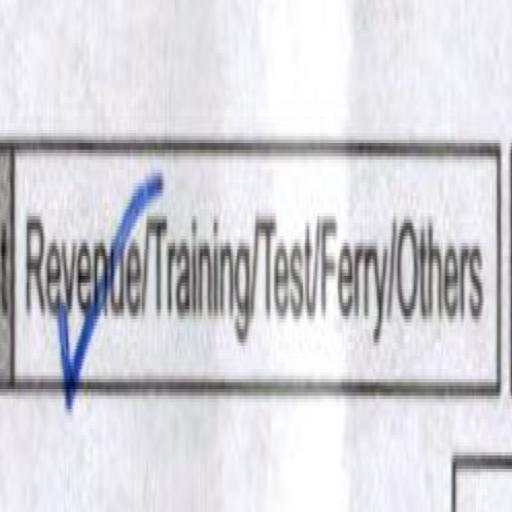check: (12, 81, 144, 458)
